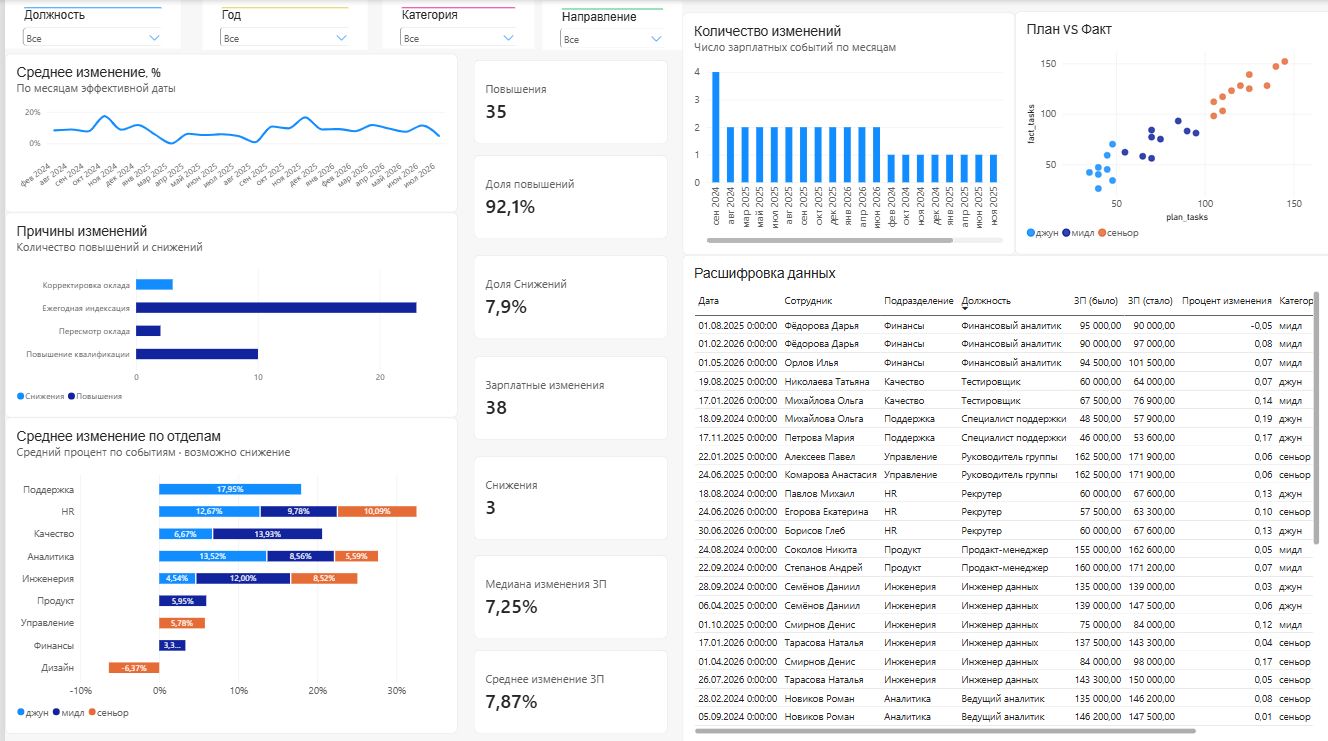

This screenshot's page, from the dashboard's own definition file:
{"tool":"powerbi","page":{"name":"Изменение ЗП","canvas":[1920,1080],"ordinal":0},"visuals":[{"type":"cardVisual","fields":{"Data":["SalaryChange.Доля повышений"]},"box":[678.9,224.4,281.1,121.4],"z":0},{"type":"cardVisual","fields":{"Data":["SalaryChange.Зарплатные изменения"]},"box":[678.9,515.6,281.1,121.4],"z":1000},{"type":"cardVisual","fields":{"Data":["SalaryChange.Медиана изменения ЗП"]},"box":[678.9,803.3,281.1,121.4],"z":2000},{"type":"cardVisual","fields":{"Data":["SalaryChange.Среднее изменение ЗП"]},"box":[678.9,941.1,281.1,121.4],"z":3000},{"type":"cardVisual","fields":{"Data":["SalaryChange.Повышения"]},"box":[678.9,86.7,281.1,121.4],"z":4000},{"type":"cardVisual","fields":{"Data":["SalaryChange.Снижения"]},"box":[678.9,660,281.1,121.4],"z":5000},{"type":"columnChart","title":"Количество изменений","fields":{"Category":["Calendar.Месяц"],"Y":["SalaryChange.Зарплатные изменения"]},"box":[980.8,18.1,481.4,351.1],"z":6000},{"type":"lineChart","title":"Среднее изменение, %","fields":{"Category":["Calendar.Месяц"],"Y":["SalaryChange.Среднее изменение ЗП"]},"box":[0,77.8,655.1,229.8],"z":7000},{"type":"barChart","title":"Среднее изменение по отделам","fields":{"Category":["SalaryChange.department"],"Series":["SalaryChange.grade"],"Y":["SalaryChange.Среднее изменение ЗП"]},"box":[0,604.4,655.1,457.8],"z":8000},{"type":"barChart","title":"Причины изменений","fields":{"Category":["SalaryChange.reason"],"Y":["SalaryChange.Снижения","SalaryChange.Повышения"]},"box":[0,307.6,655.1,296.8],"z":9000},{"type":"scatterChart","title":"План VS Факт","fields":{"Series":["SalaryChange.grade"],"X":["SalaryChange.plan_tasks"],"Y":["SalaryChange.fact_tasks"]},"box":[1461.7,16.7,458.3,351.7],"z":10000},{"type":"slicer","fields":{"Values":["Calendar.Год"]},"box":[285.6,0,238.9,72.2],"z":11000},{"type":"slicer","fields":{"Values":["SalaryChange.grade"]},"box":[546,0,220,70],"z":12000},{"type":"slicer","fields":{"Values":["SalaryChange.Направление"]},"box":[777.8,2.2,202.2,70],"z":13000},{"type":"slicer","fields":{"Values":["SalaryChange.post_name"]},"box":[0,0,254,70],"z":14000},{"type":"tableEx","title":"Расшифровка данных","fields":{"Values":["SalaryChange.effective_from.Изменение.Иерархия дат.Год","SalaryChange.employee","SalaryChange.department","SalaryChange.post_name","Sum(SalaryChange.previous_salary)","Sum(SalaryChange.current_salary)","Sum(SalaryChange.ИзменениеДоля)","SalaryChange.grade","SalaryChange.reason"]},"box":[980.8,369.2,939.2,711.2],"z":15000},{"type":"cardVisual","fields":{"Data":["SalaryChange.Доля Снижений"]},"box":[678.9,368.9,281.1,121.4],"z":16000}]}

Visuals, with their boxes in screenshot pixels (x1, y1, x2, y2), scaled from the page's 1920x1080 canvas onto the 1328x741 screenshot:
cardVisual - SalaryChange.Доля повышений: {"left": 470, "top": 154, "right": 664, "bottom": 237}
cardVisual - SalaryChange.Зарплатные изменения: {"left": 470, "top": 354, "right": 664, "bottom": 437}
cardVisual - SalaryChange.Медиана изменения ЗП: {"left": 470, "top": 551, "right": 664, "bottom": 634}
cardVisual - SalaryChange.Среднее изменение ЗП: {"left": 470, "top": 646, "right": 664, "bottom": 729}
cardVisual - SalaryChange.Повышения: {"left": 470, "top": 59, "right": 664, "bottom": 143}
cardVisual - SalaryChange.Снижения: {"left": 470, "top": 453, "right": 664, "bottom": 536}
"Количество изменений" columnChart: {"left": 678, "top": 12, "right": 1011, "bottom": 253}
"Среднее изменение, %" lineChart: {"left": 0, "top": 53, "right": 453, "bottom": 211}
"Среднее изменение по отделам" barChart: {"left": 0, "top": 415, "right": 453, "bottom": 729}
"Причины изменений" barChart: {"left": 0, "top": 211, "right": 453, "bottom": 415}
"План VS Факт" scatterChart: {"left": 1011, "top": 11, "right": 1327, "bottom": 253}
slicer - Calendar.Год: {"left": 198, "top": 0, "right": 363, "bottom": 50}
slicer - SalaryChange.grade: {"left": 378, "top": 0, "right": 530, "bottom": 48}
slicer - SalaryChange.Направление: {"left": 538, "top": 2, "right": 678, "bottom": 50}
slicer - SalaryChange.post_name: {"left": 0, "top": 0, "right": 176, "bottom": 48}
"Расшифровка данных" tableEx: {"left": 678, "top": 253, "right": 1327, "bottom": 740}
cardVisual - SalaryChange.Доля Снижений: {"left": 470, "top": 253, "right": 664, "bottom": 336}
